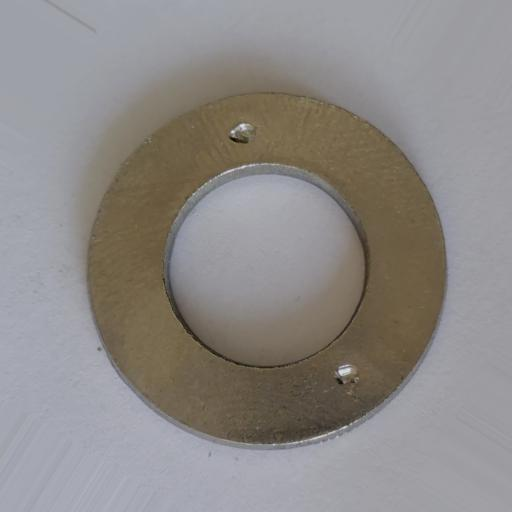circular_cavity: (334, 362, 360, 386), (229, 122, 256, 144)
